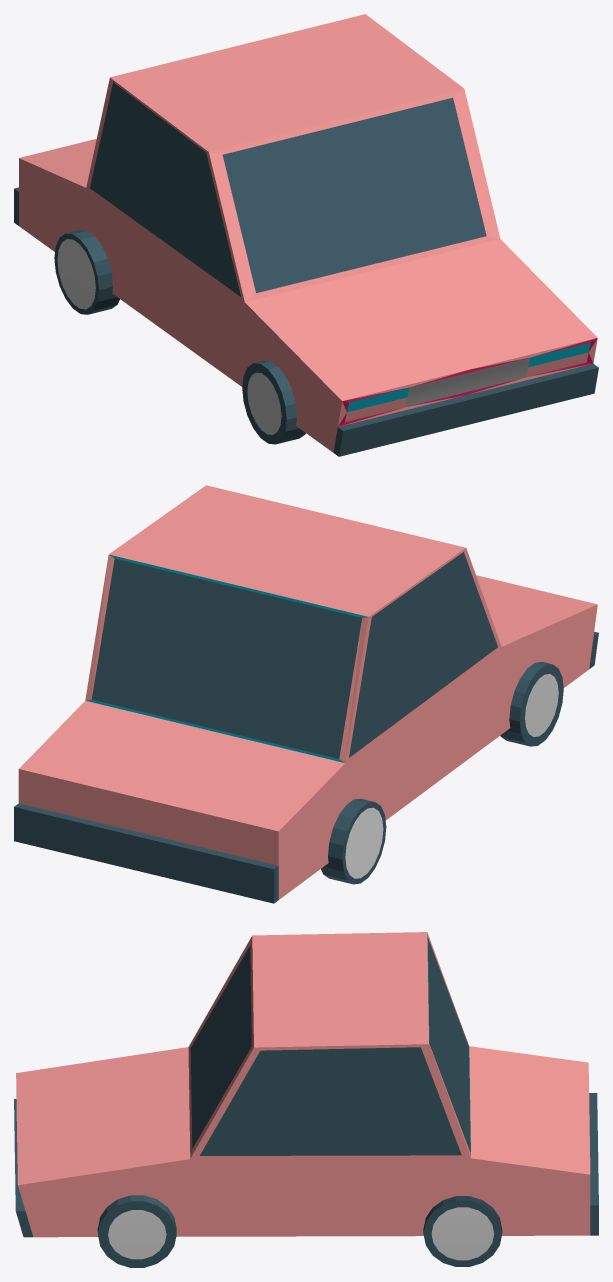
The model's file is car_04_2_world_ap_0_lev1.glb.
3 renders of one model, top to bottom at view 1: azimuth 30°, elevation 25°; view 2: azimuth 150°, elevation 25°; view 3: azimuth 270°, elevation 25°, orthographic. The views are drawn at different scales.
Parts seen in each view (by area): view 1: car_04_2_world_ap_0_lev1; view 2: car_04_2_world_ap_0_lev1; view 3: car_04_2_world_ap_0_lev1.
Boxes of the visible parts, <box> form: car_04_2_world_ap_0_lev1: <box>14,14,598,456</box>; car_04_2_world_ap_0_lev1: <box>14,485,598,903</box>; car_04_2_world_ap_0_lev1: <box>14,932,598,1267</box>.
Size of the model in its own units: 0.7512 by 0.6093 by 1.48.
Materials: 1 (1 with a texture image).
